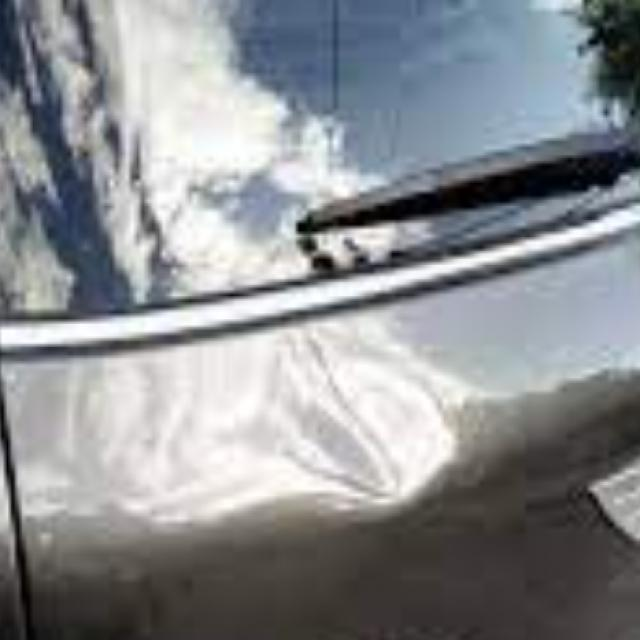dents: (267, 359, 454, 506)
